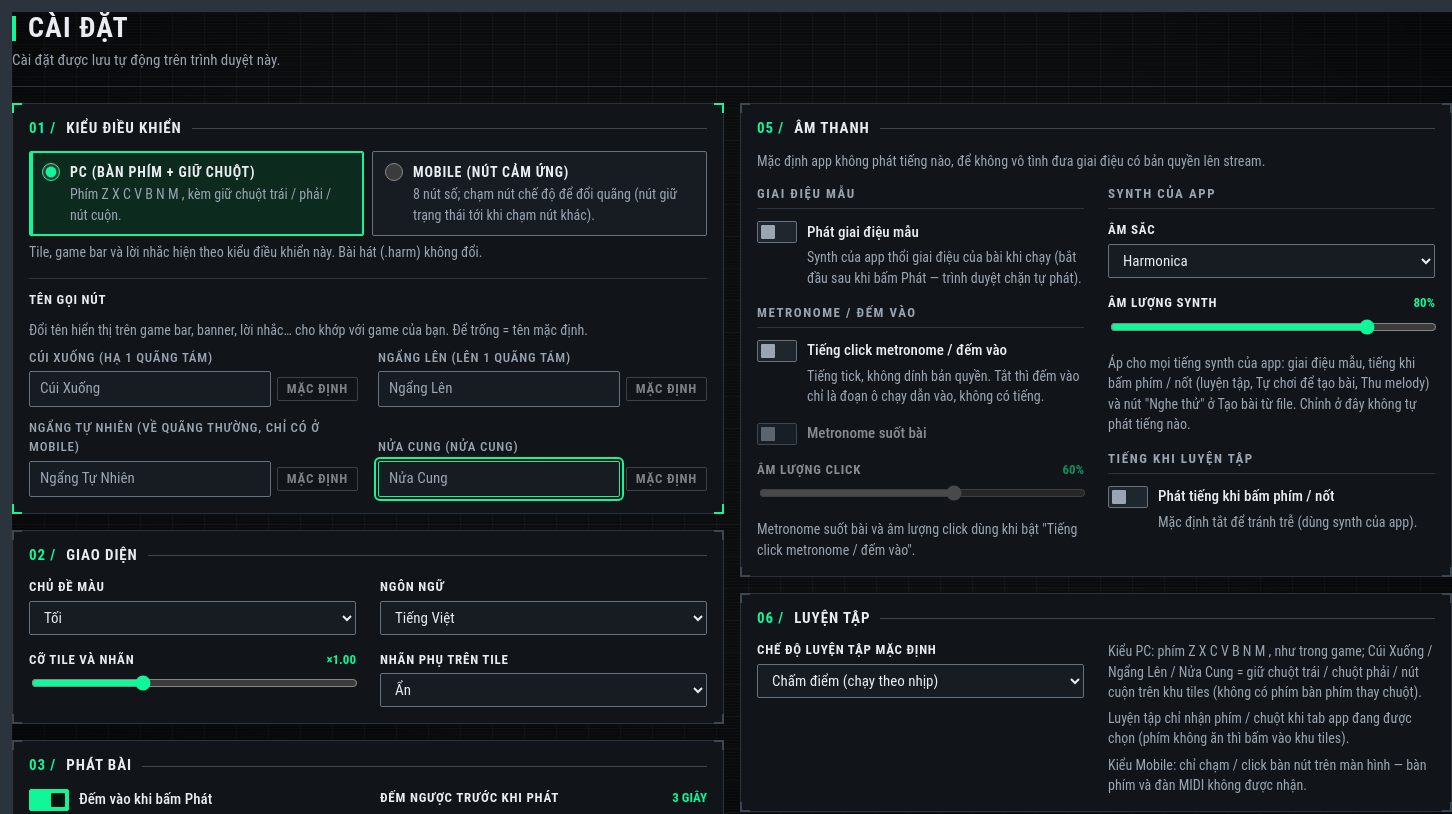
SettingsView — tên gọi nút › typing keeps spaces while editing, saves trimmed, renames everywhere; Default resets
Step 1. Type "Thăng " into the field labelled "Nửa Cung (nửa cung)" → [499, 479], box 378,461 -> 620,497
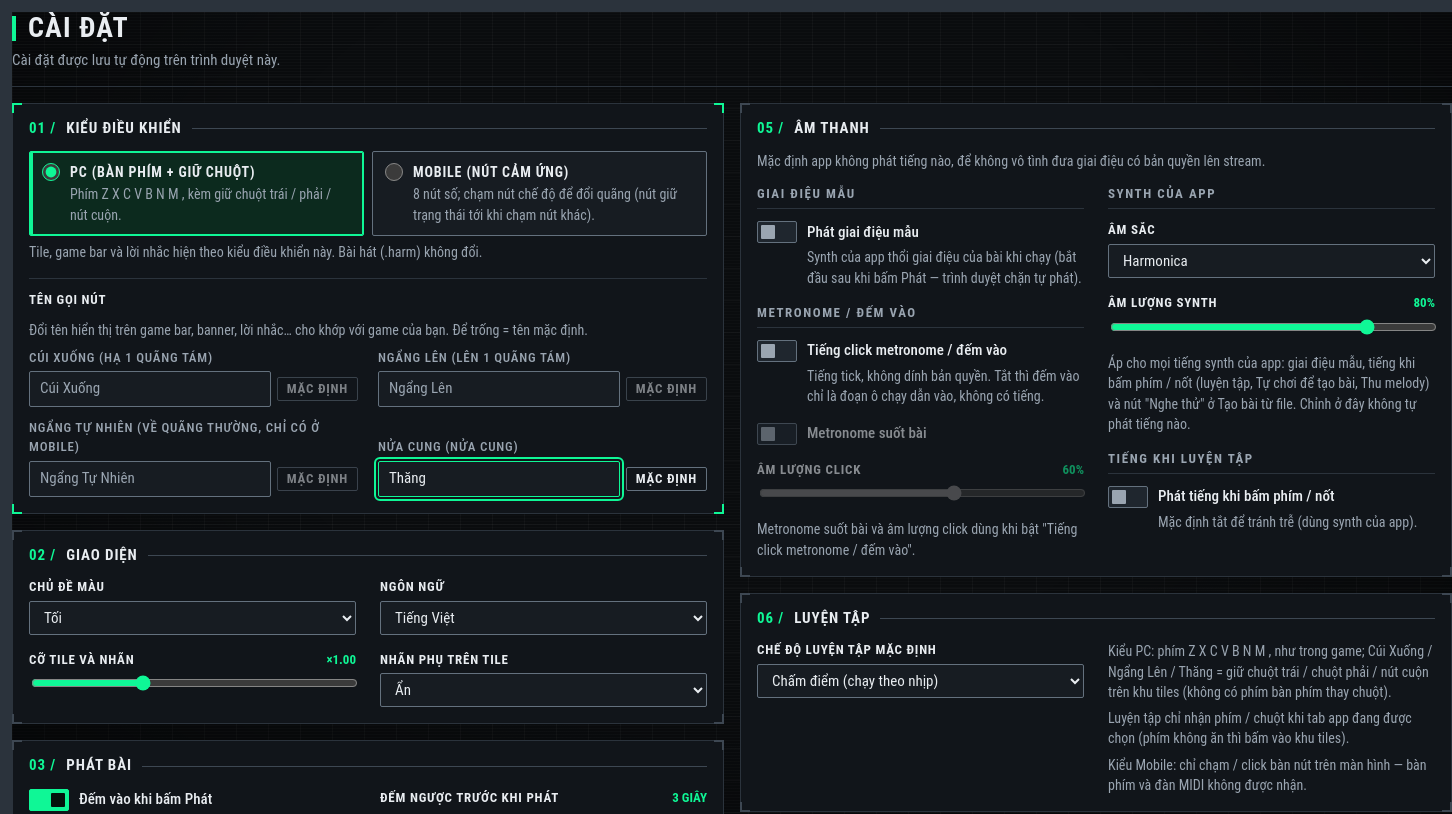
Step 2. Replace the text in the field labelled "Nửa Cung (nửa cung)" with "Thăng nửa" → [499, 479], box 378,461 -> 620,497
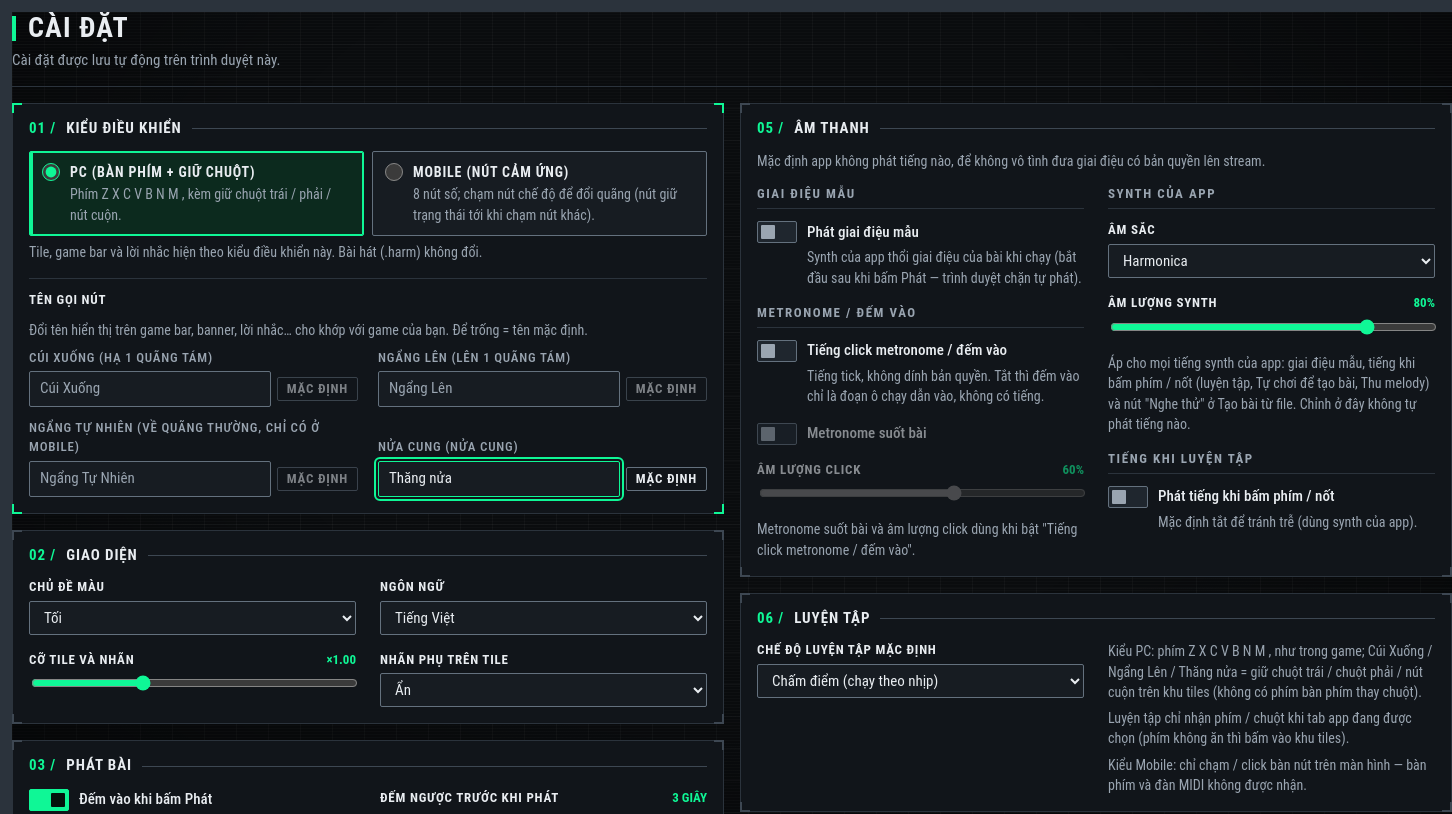
Result: the element "Luyện tập" shows "Ngẩng Lên / Thăng nửa = giữ chuột trái" at 1108,643 -> 1432,700
Step 3. Replace the text in the field labelled "Nửa Cung (nửa cung)" with "  Lên nửa  " → [499, 479], box 378,461 -> 620,497
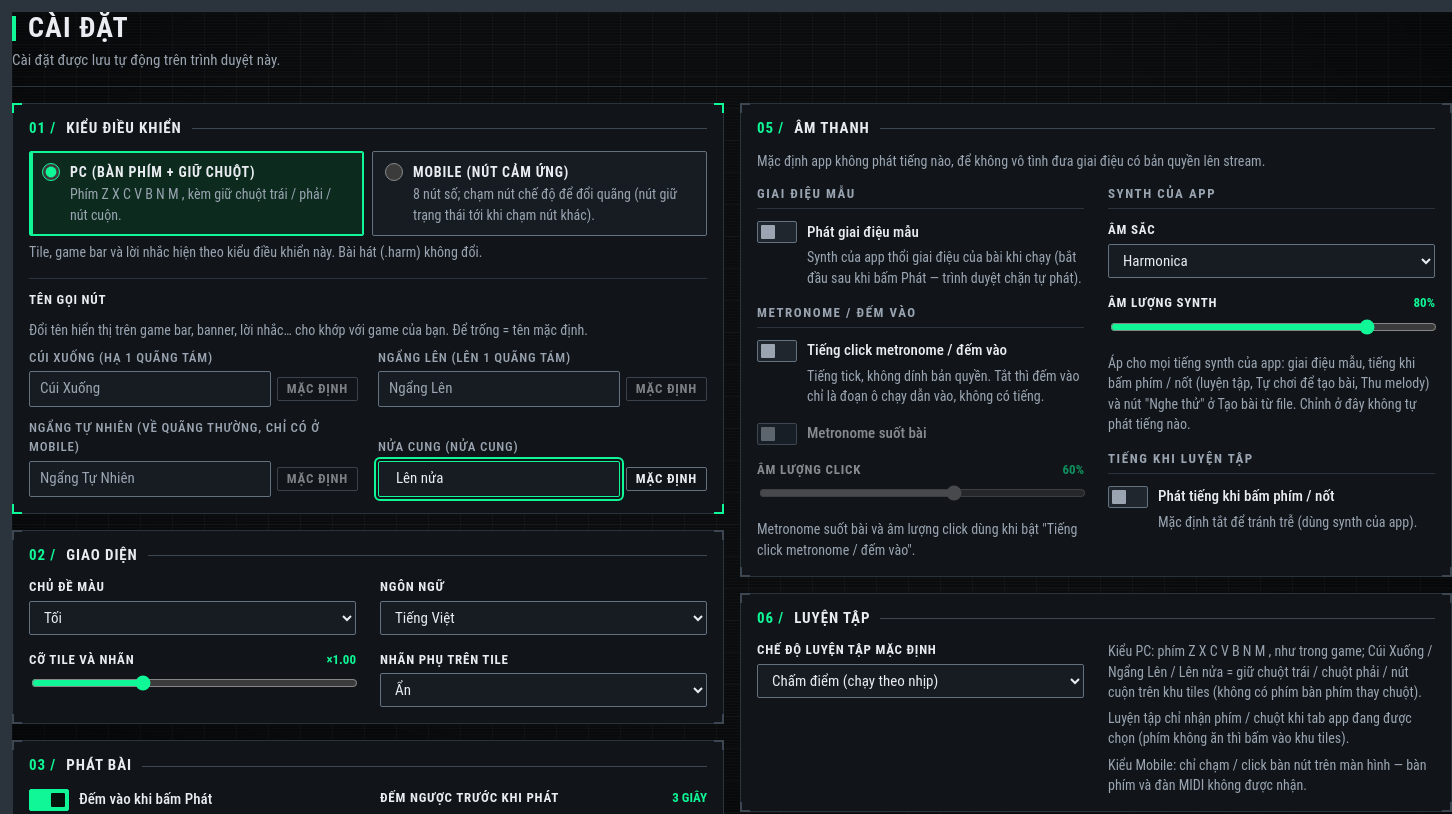
Step 4. Leave the field labelled "Nửa Cung (nửa cung)", box 378,461 -> 620,497
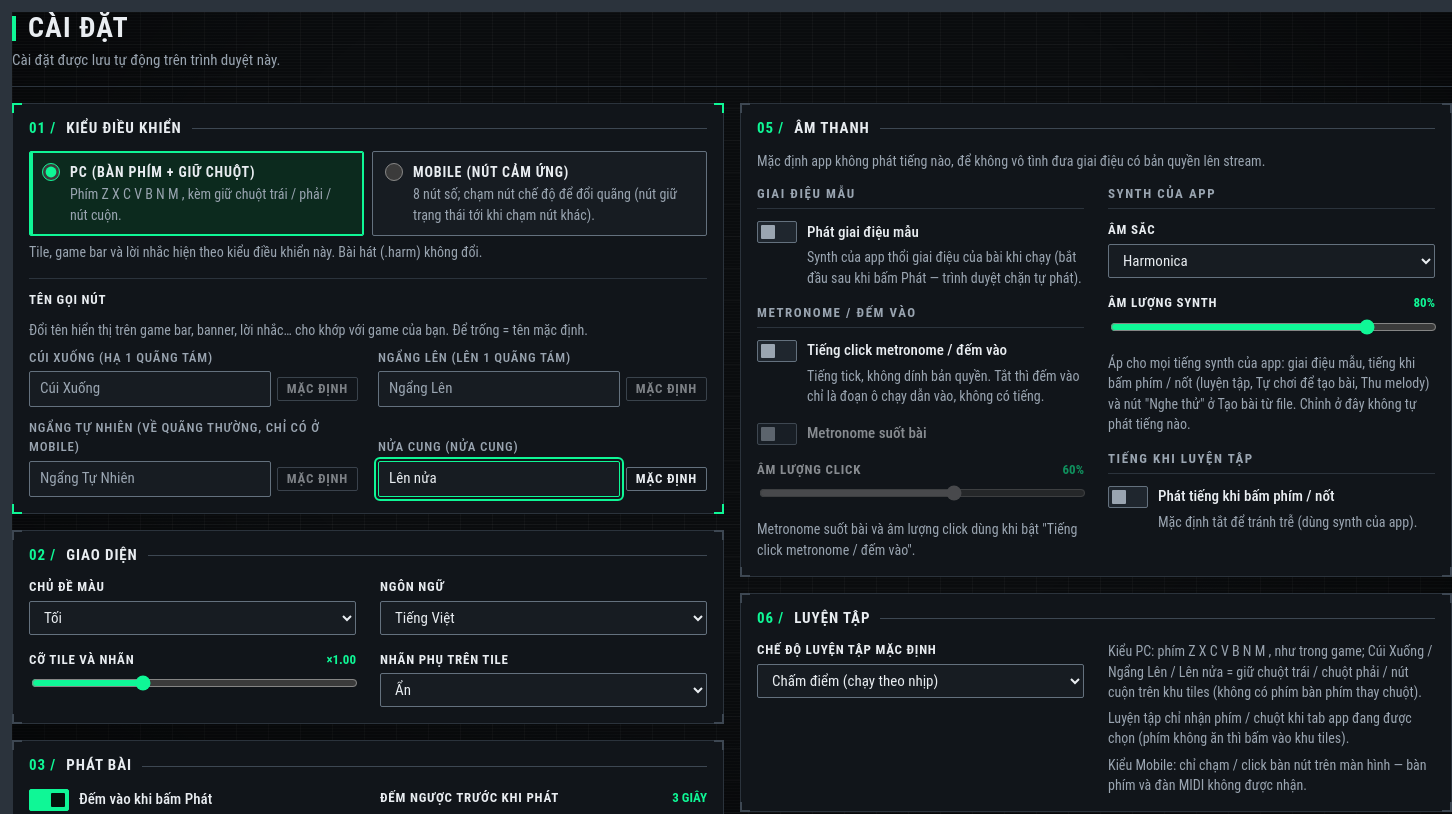
Result: the button named "Đặt tên nút \"Nửa Cung\" về mặc định" is enabled
Step 5. Click the button named "Đặt tên nút \"Nửa Cung\" về mặc định" → [666, 479], box 626,466 -> 707,491
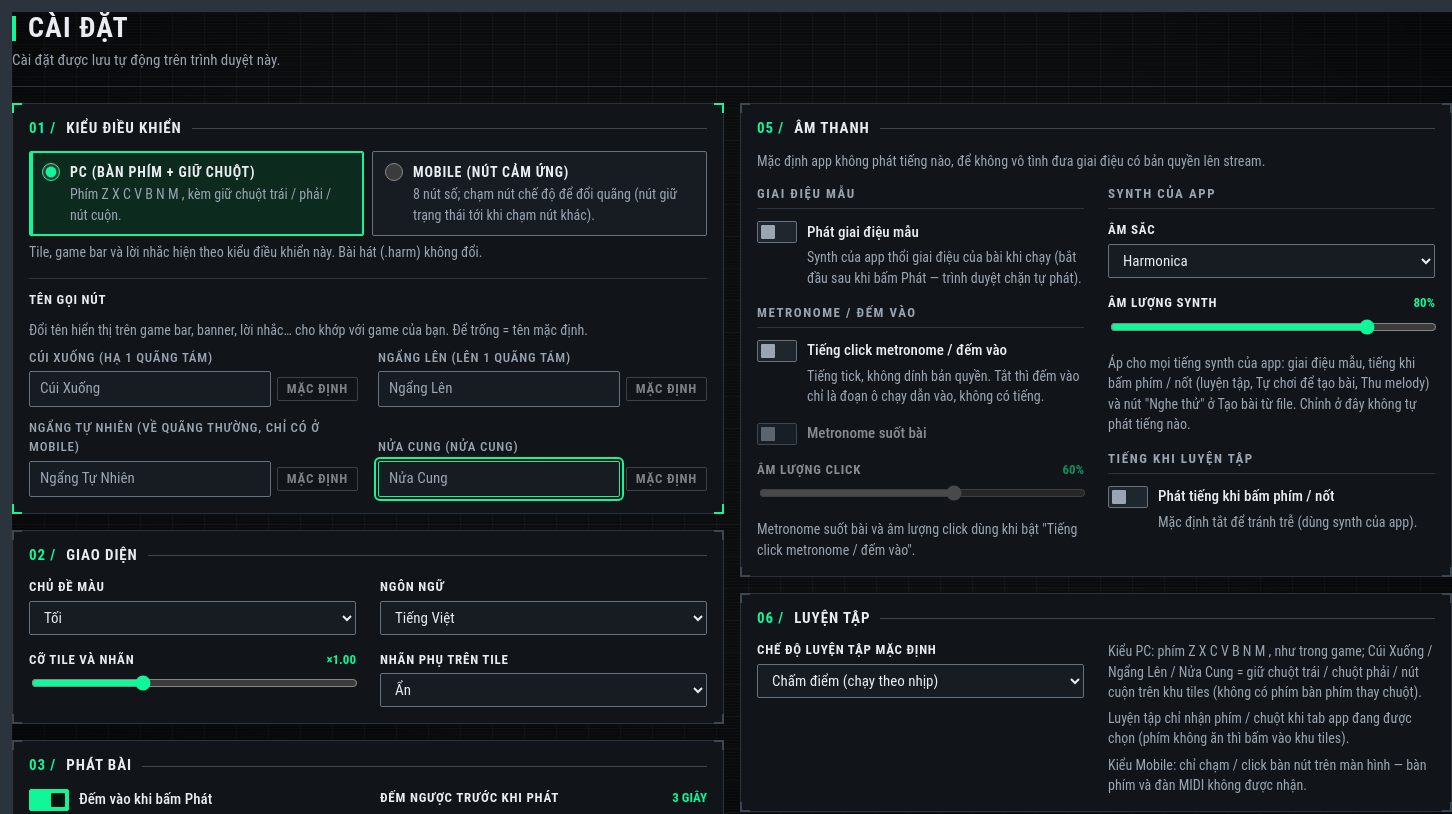
Result: the field labelled "Nửa Cung (nửa cung)" is empty at 378,461 -> 620,497
Result: the button named "Đặt tên nút \"Nửa Cung\" về mặc định" is disabled at 626,466 -> 707,491
Result: the element "Luyện tập" shows "Ngẩng Lên / Nửa Cung = giữ chuột trái" at 1108,643 -> 1432,700
